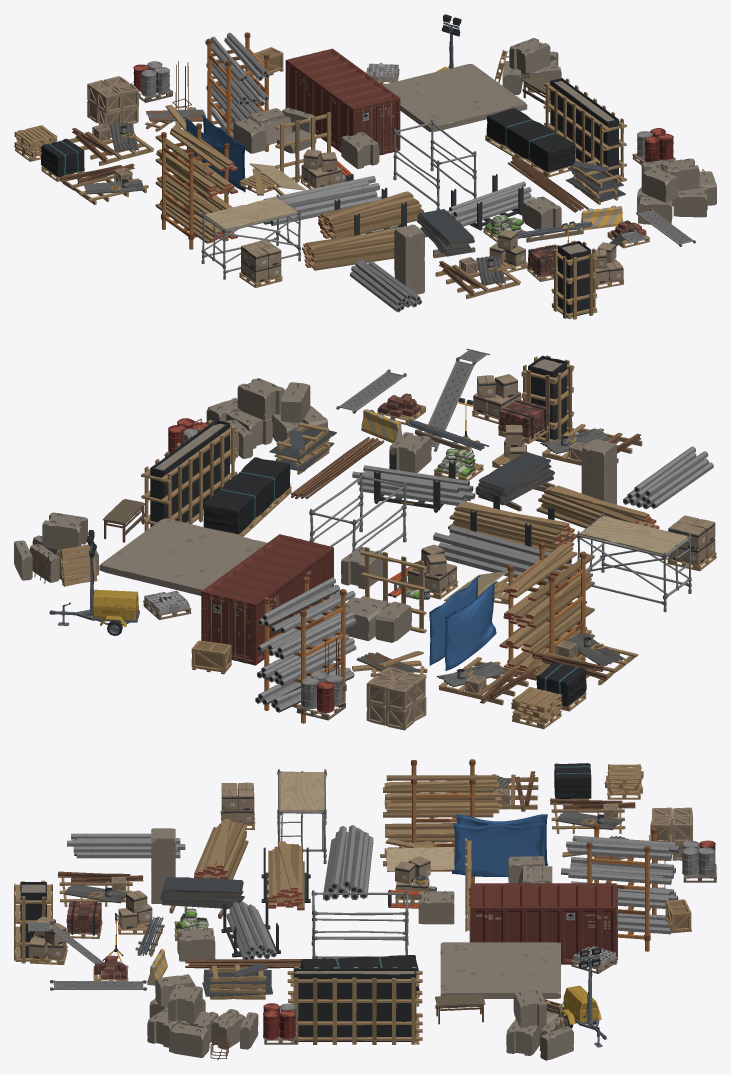
The model's file is Build_props.fbx.
3 renders of one model, top to bottom at view 1: azimuth 30°, elevation 25°; view 2: azimuth 150°, elevation 25°; view 3: azimuth 270°, elevation 25°, orthographic. The views are drawn at different scales.
Parts seen in each view (by area): view 1: SM_Prop_Shipping_Container_01__1_, SM_Prop_StorageShelf_Large_Plank_01, SM_Bld_Concrete_Floor_01__19_, SM_Bld_ConcreteFrame_Wall_02, SM_Prop_StorageShelf_Large_Pipe_01__2_, SM_Prop_Concrete_Slab_Pile_03, SM_Prop_Pallet_03, SM_Prop_Scaffold_02__1_, SM_Prop_StorageShelf_Plank_01, SM_Bld_ConcreteFrame_Pillar_03__1_, SM_Prop_Plank_Stack_01, SM_Prop_Pipe_Stack_01 (+38 smaller); view 2: SM_Prop_Shipping_Container_01__1_, SM_Prop_StorageShelf_Large_Pipe_01__2_, SM_Prop_StorageShelf_Large_Plank_01, SM_Bld_Concrete_Floor_01__19_, SM_Bld_ConcreteFrame_Wall_02, SM_Prop_Concrete_Slab_Pile_03, SM_Prop_Pallet_03, SM_Prop_Concrete_Slab_Pile_02__2_, SM_Prop_Scaffold_02__1_, SM_Prop_StorageShelf_Plank_01, SM_Prop_StorageShelf_Pipes_01, SM_Prop_Pipe_Stack_01 (+39 smaller); view 3: SM_Bld_ConcreteFrame_Wall_02, SM_Prop_Shipping_Container_01__1_, SM_Prop_StorageShelf_Large_Pipe_01__2_, SM_Prop_StorageShelf_Large_Plank_01, SM_Bld_Concrete_Floor_01__19_, SM_Prop_Concrete_Slab_Pile_03, SM_Prop_Scaffold_Stackable_01_Tarp_2, SM_Prop_Concrete_Slab_Pile_02__2_, SM_Prop_Pipe_Stack_01, SM_Prop_StorageShelf_Plank_01, SM_Prop_Scaffold_02__1_, SM_Prop_StorageShelf_Pipes_01 (+36 smaller).
Boxes of the visible parts, x1,y1,x2,y2 form: SM_Prop_Shipping_Container_01__1_: [285, 48, 400, 155]; SM_Prop_StorageShelf_Large_Plank_01: [155, 123, 237, 249]; SM_Bld_Concrete_Floor_01__19_: [383, 63, 527, 131]; SM_Bld_ConcreteFrame_Wall_02: [543, 78, 626, 181]; SM_Prop_StorageShelf_Large_Pipe_01__2_: [205, 32, 269, 151]; SM_Prop_Concrete_Slab_Pile_03: [637, 158, 716, 224]; SM_Prop_Pallet_03: [485, 108, 575, 177]; SM_Prop_Scaffold_02__1_: [201, 194, 300, 279]; SM_Prop_StorageShelf_Plank_01: [318, 187, 423, 238]; SM_Bld_ConcreteFrame_Pillar_03__1_: [551, 240, 597, 319]; SM_Prop_Plank_Stack_01: [302, 227, 399, 270]; SM_Prop_Pipe_Stack_01: [263, 176, 381, 225]; SM_Prop_Shipping_Container_01__1_: [201, 534, 333, 665]; SM_Prop_StorageShelf_Large_Pipe_01__2_: [255, 576, 356, 723]; SM_Prop_StorageShelf_Large_Plank_01: [499, 542, 594, 680]; SM_Bld_Concrete_Floor_01__19_: [99, 518, 267, 595]; SM_Bld_ConcreteFrame_Wall_02: [141, 419, 237, 531]; SM_Prop_Concrete_Slab_Pile_03: [194, 378, 327, 464]; SM_Prop_Pallet_03: [203, 457, 291, 536]; SM_Prop_Concrete_Slab_Pile_02__2_: [14, 512, 98, 586]; SM_Prop_Scaffold_02__1_: [577, 513, 691, 612]; SM_Prop_StorageShelf_Plank_01: [448, 493, 576, 552]; SM_Prop_StorageShelf_Pipes_01: [352, 452, 475, 512]; SM_Prop_Pipe_Stack_01: [433, 525, 576, 584]; SM_Bld_ConcreteFrame_Wall_02: [287, 967, 422, 1044]; SM_Prop_Shipping_Container_01__1_: [469, 883, 617, 964]; SM_Prop_StorageShelf_Large_Pipe_01__2_: [561, 824, 679, 951]; SM_Prop_StorageShelf_Large_Plank_01: [383, 759, 501, 883]; SM_Bld_Concrete_Floor_01__19_: [440, 942, 560, 998]; SM_Prop_Concrete_Slab_Pile_03: [147, 974, 258, 1060]; SM_Prop_Scaffold_Stackable_01_Tarp_2: [452, 823, 544, 876]; SM_Prop_Concrete_Slab_Pile_02__2_: [506, 990, 573, 1060]; SM_Prop_Pipe_Stack_01: [323, 825, 373, 900]; SM_Prop_StorageShelf_Plank_01: [261, 841, 310, 910]; SM_Prop_Scaffold_02__1_: [277, 769, 326, 863]; SM_Prop_StorageShelf_Pipes_01: [221, 899, 280, 959].
Bounding box in the file's own units: 26.09 × 4.76 × 29.2.
Materials: 1 (1 with a texture image).
